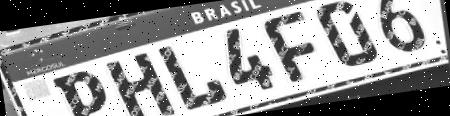placa_mercosul: (0, 0, 447, 116)
